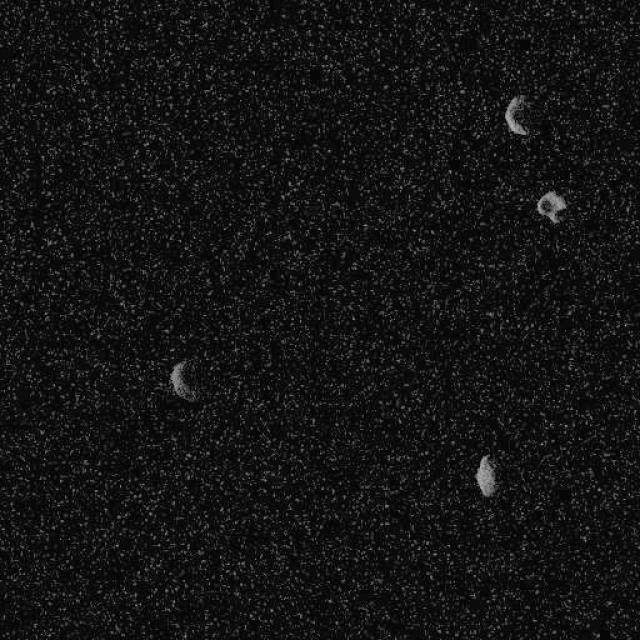D2: (168, 358, 198, 402), (473, 452, 498, 498), (535, 188, 566, 224), (504, 94, 528, 136)
